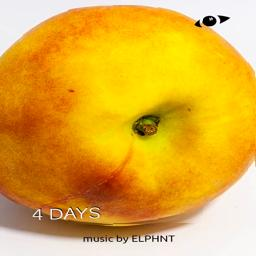Peach Fresh: (1, 5, 256, 227)
